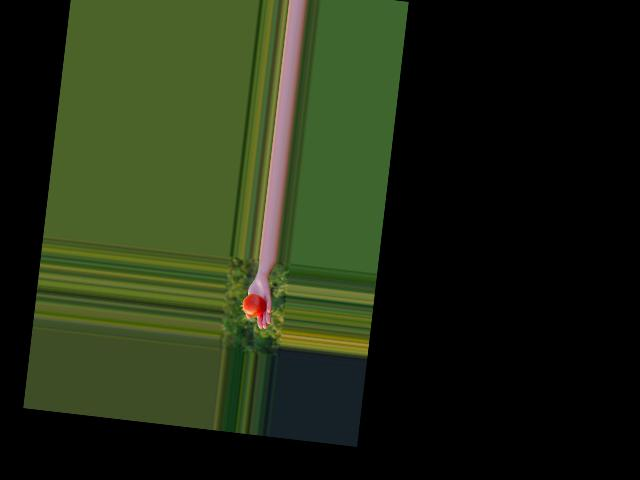tomato: (241, 293, 267, 317)
